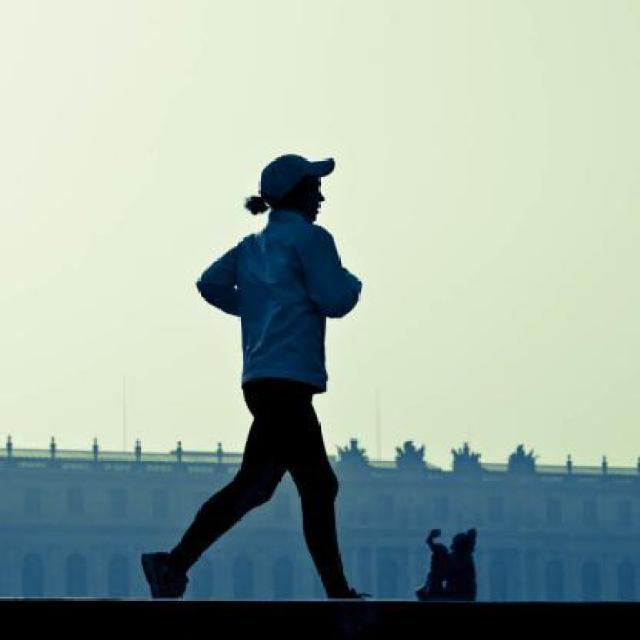Person: (170, 143, 376, 612)
